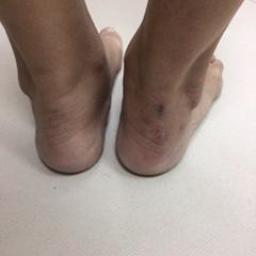Back View -Both Feet-: (6, 4, 236, 190)
